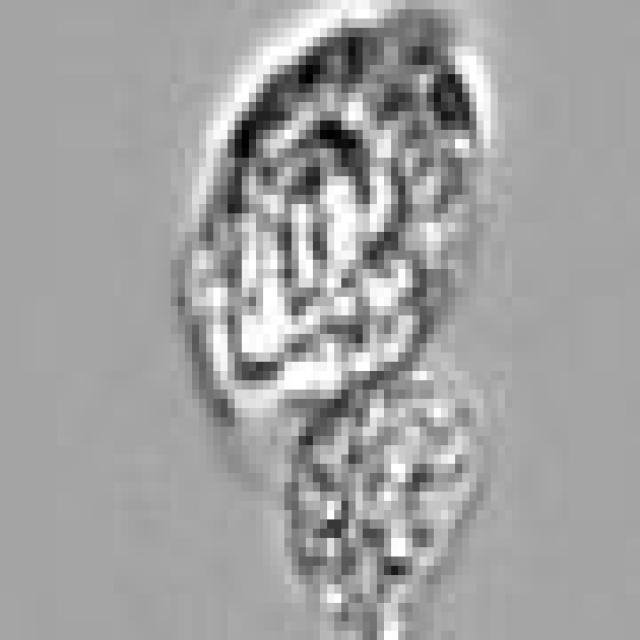Cancer Cell: (192, 10, 484, 418)
WBC: (292, 371, 484, 621)
